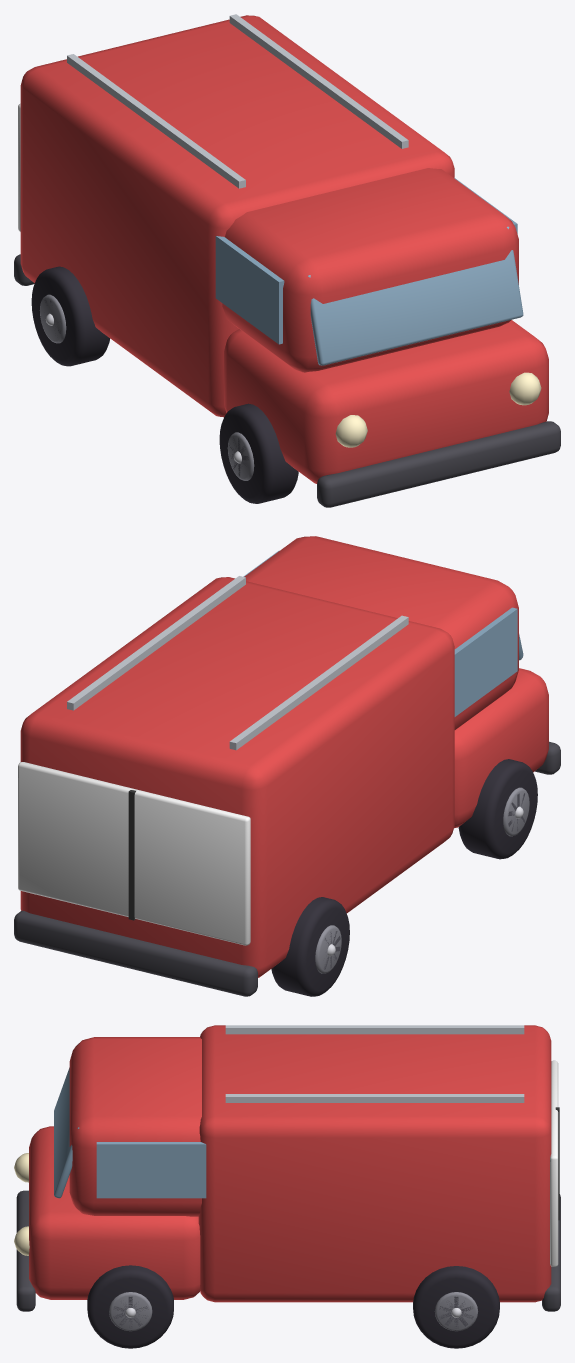
Rendered from van_delivery.glb.
3 views of the same model, one above another, from view 1: azimuth 30°, elevation 25°; view 2: azimuth 150°, elevation 25°; view 3: azimuth 270°, elevation 25° (orthographic). The views are drawn at different scales.
Visible parts, largest first — view 1: body, wheel_fr, wheel_rr; view 2: body, wheel_fr, wheel_rr; view 3: body, wheel_fl, wheel_rl.
Boxes of the visible parts, x1=… form: body: x1=14, y1=14, x2=560, y2=507; wheel_fr: x1=219, y1=403, x2=298, y2=503; wheel_rr: x1=31, y1=266, x2=109, y2=366; body: x1=14, y1=536, x2=560, y2=996; wheel_fr: x1=458, y1=759, x2=537, y2=859; wheel_rr: x1=271, y1=897, x2=349, y2=996; body: x1=14, y1=1025, x2=560, y2=1311; wheel_fl: x1=87, y1=1265, x2=173, y2=1348; wheel_rl: x1=413, y1=1266, x2=499, y2=1348.
Bounding box in the file's own units: 2.13 × 1.88 × 4.03.
